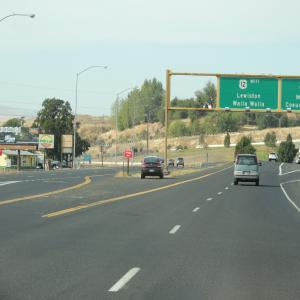Vehicle-registration-plate: (246, 173, 250, 175), (151, 171, 154, 173)
